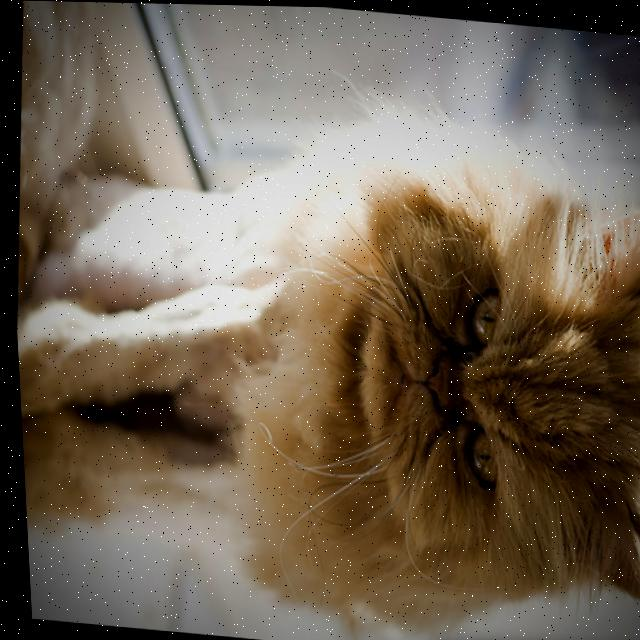Persian: (3, 70, 640, 640)
